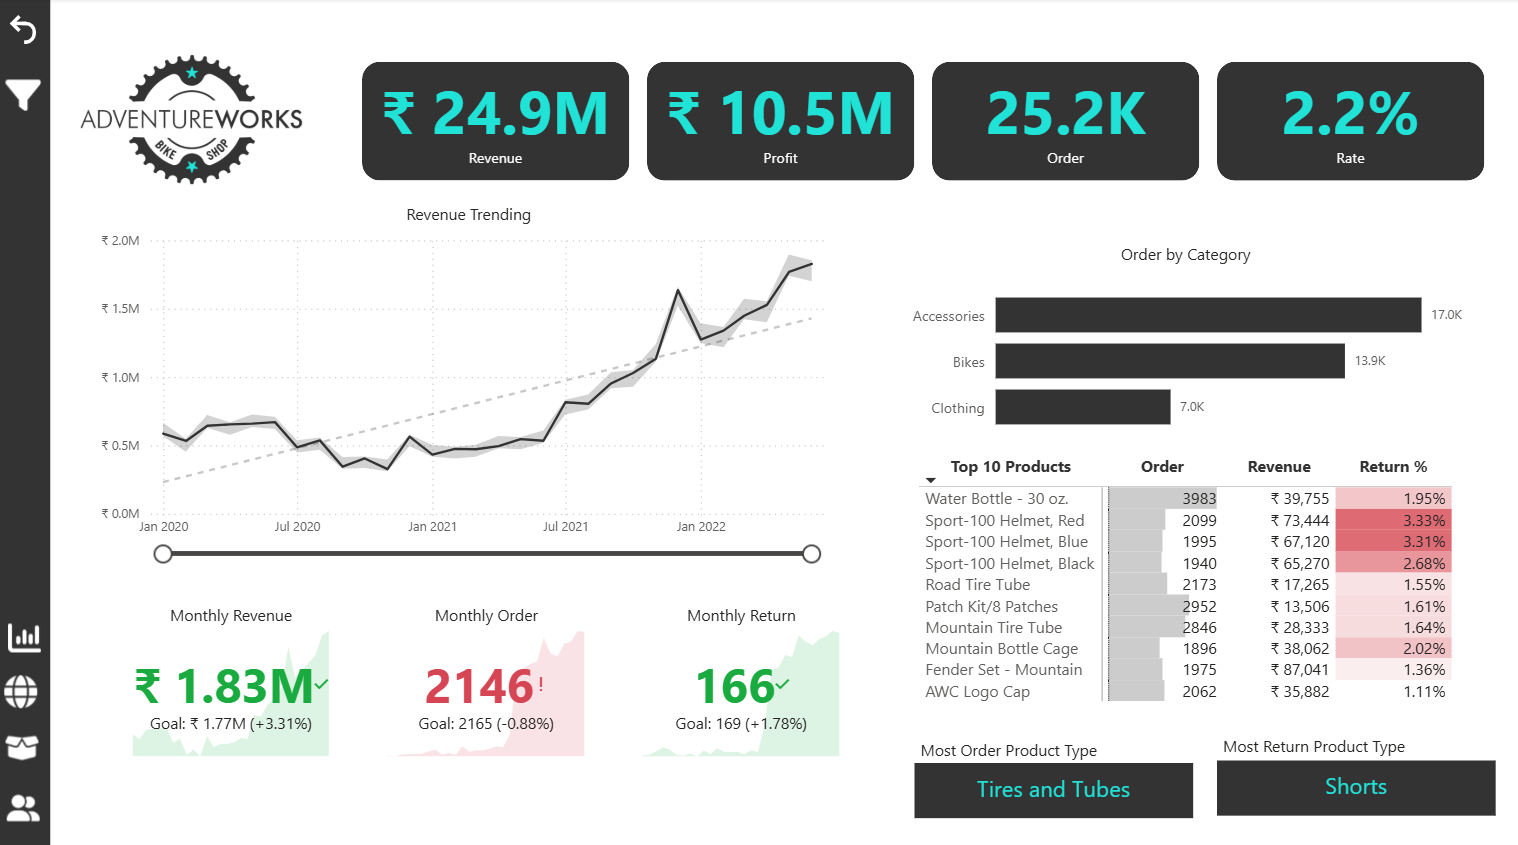

This screenshot's page, from the dashboard's own definition file:
{"tool":"powerbi","page":{"name":"Exec Dashoboard","canvas":[1280,720],"ordinal":0},"visuals":[{"type":"card","fields":{"Values":["Measuer Table.Total Revenue"]},"box":[301.1,26.7,237.8,150],"z":0,"group":"g2"},{"type":"image","title":"AW Logo","box":[45.2,31.5,237.6,141.9],"z":0},{"type":"group","id":"g1","title":"KPI Backgrounds","box":[307,53.7,944.2,100],"z":0,"group":"g3"},{"type":"shape","box":[1026.2,53.7,225,100],"z":0,"group":"g1"},{"type":"actionButton","box":[5.3,520.4,45.2,35.7],"z":0,"group":"g4"},{"type":"shape","title":"Left Nav background","box":[0,0,45,720.2],"z":1000},{"type":"group","id":"g2","title":"KPI Value","box":[301.1,26.7,956.7,150],"z":1000,"group":"g3"},{"type":"card","fields":{"Values":["Measuer Table.Total Profit"]},"box":[540.7,26.7,237.8,150],"z":1000,"group":"g2"},{"type":"shape","box":[307,53.7,225,99.9],"z":1000,"group":"g1"},{"type":"actionButton","box":[2.1,565.6,45.2,35.7],"z":1000,"group":"g4"},{"type":"group","id":"g3","title":"KPI","box":[301.1,26.7,956.7,150],"z":2000},{"type":"card","fields":{"Values":["Measuer Table.Total Order"]},"box":[780.4,26.7,237.8,150],"z":2000,"group":"g2"},{"type":"shape","box":[546.7,53.7,225,100],"z":2000,"group":"g1"},{"type":"actionButton","box":[4.2,663.4,45.2,35.7],"z":2000,"group":"g4"},{"type":"card","fields":{"Values":["Measuer Table.Return Rate"]},"box":[1020,26.7,237.8,150],"z":3000,"group":"g2"},{"type":"shape","box":[786.4,53.7,225,100],"z":3000,"group":"g1"},{"type":"lineChart","title":"Revenue Trending","fields":{"Y":["Measuer Table.Total Revenue"],"Category":["Calendar Lookup.Start of Month"]},"box":[82.2,172.2,629.6,305.6],"z":3000},{"type":"actionButton","box":[3.2,612.9,45.2,35.7],"z":3000,"group":"g4"},{"type":"kpi","title":"Monthly Revenue","fields":{"Indicator":["Measuer Table.Total Revenue"],"TrendLine":["Calendar Lookup.Start of Month"],"Goal":["Measuer Table.Previous month revenue"]},"box":[108.9,510,175,133],"z":4000},{"type":"kpi","title":"Monthly Return","fields":{"TrendLine":["Calendar Lookup.Start of Month"],"Indicator":["Measuer Table.Total Return"],"Goal":["Measuer Table.Previos month return"]},"box":[538.4,510,175.6,133.3],"z":5000},{"type":"kpi","title":"Monthly Order","fields":{"TrendLine":["Calendar Lookup.Start of Month"],"Indicator":["Measuer Table.Total Order"],"Goal":["Measuer Table.Previous month order"]},"box":[323.4,510,175.6,133.3],"z":6000},{"type":"clusteredBarChart","title":"Order by Category","fields":{"Category":["Product Categories Lookup.CategoryName"],"Y":["Measuer Table.Total Order"]},"box":[760,205.6,479.3,174.9],"z":7000},{"type":"pivotTable","fields":{"Rows":["Product Lookup.ProductName"],"Values":["Measuer Table.Total Order","Measuer Table.Total Revenue","Measuer Table.Return Rate"]},"box":[770.2,380,496.7,248.9],"z":8000},{"type":"card","fields":{"Values":["Min(Product Subcategories Lookup.SubcategoryName)"]},"box":[772.2,643.3,234.4,46.7],"z":9000},{"type":"textbox","box":[772.2,617.8,195.6,36.7],"z":10000},{"type":"card","fields":{"Values":["Min(Product Subcategories Lookup.SubcategoryName)"]},"box":[1026.7,640.9,234.4,46.7],"z":11000},{"type":"textbox","box":[1026.7,615.3,195.6,36.7],"z":12000},{"type":"actionButton","box":[5.3,9.5,34.7,33.6],"z":13000},{"type":"group","id":"g4","title":"Navigation buttons","box":[2.1,520.4,48.4,178.7],"z":14000},{"type":"actionButton","box":[3.2,62,37.9,40],"z":15000}]}

Visuals, with their boxes on the page's 1280x720 design canvas (x1, y1, x2, y2). These are canvas units, not pixel positions in the 1518x845 screenshot, which may show the page scaled, cropped or inside an application window:
card - Measuer Table.Total Revenue: 301 27 539 177
"AW Logo" image: 45 32 283 173
"KPI Backgrounds" group: 307 54 1251 154
shape: 1026 54 1251 154
actionButton: 5 520 50 556
"Left Nav background" shape: 0 0 45 720
"KPI Value" group: 301 27 1258 177
card - Measuer Table.Total Profit: 541 27 778 177
shape: 307 54 532 154
actionButton: 2 566 47 601
"KPI" group: 301 27 1258 177
card - Measuer Table.Total Order: 780 27 1018 177
shape: 547 54 772 154
actionButton: 4 663 49 699
card - Measuer Table.Return Rate: 1020 27 1258 177
shape: 786 54 1011 154
"Revenue Trending" lineChart: 82 172 712 478
actionButton: 3 613 48 649
"Monthly Revenue" kpi: 109 510 284 643
"Monthly Return" kpi: 538 510 714 643
"Monthly Order" kpi: 323 510 499 643
"Order by Category" clusteredBarChart: 760 206 1239 380
pivotTable - Product Lookup.ProductName x Measuer Table.Total Order: 770 380 1267 629
card - Min(Product Subcategories Lookup.SubcategoryName): 772 643 1007 690
textbox: 772 618 968 654
card - Min(Product Subcategories Lookup.SubcategoryName): 1027 641 1261 688
textbox: 1027 615 1222 652
actionButton: 5 10 40 43
"Navigation buttons" group: 2 520 50 699
actionButton: 3 62 41 102
